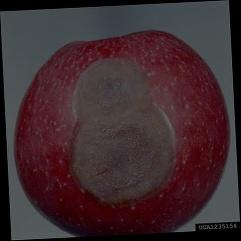rotten apple: (10, 30, 231, 234)
